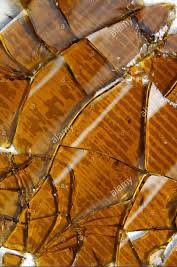glass: (1, 1, 177, 267)
